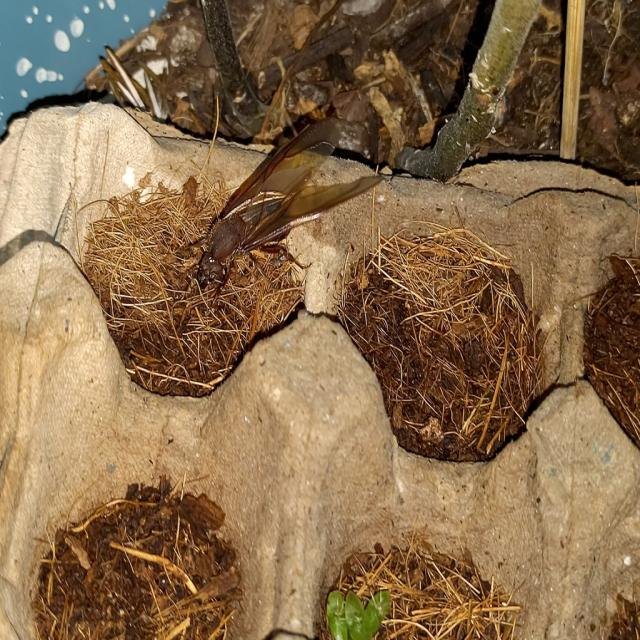Alive-Female-Alate: (196, 116, 386, 314)
